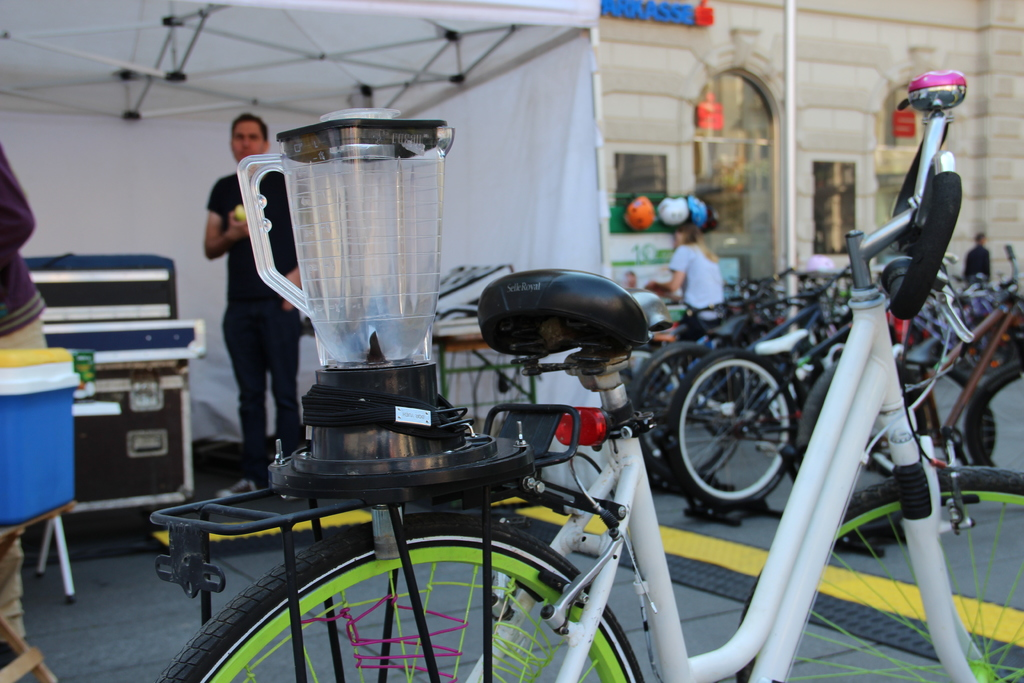Bike_away: (222, 188, 962, 683)
